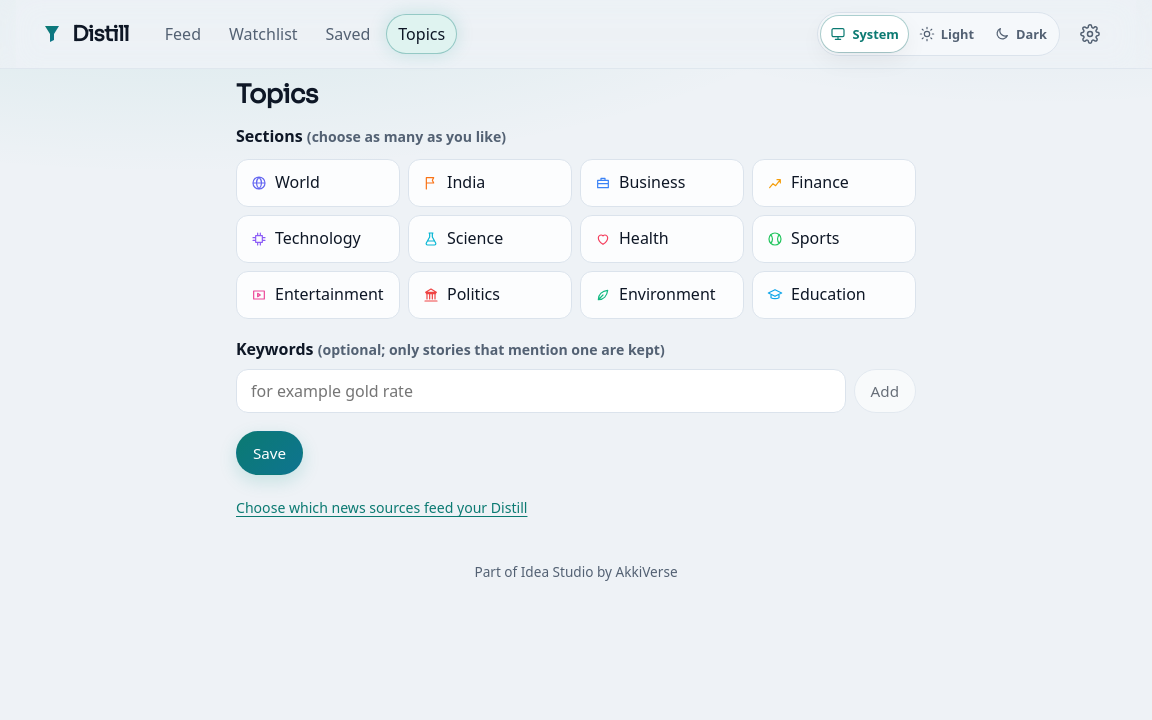
Test: US-1: Choose topics › AC-1.3: with no section selected, Save shows "Pick at least one section" and saves nothing
Click the button "Save": (270, 453) [236,431,303,475]
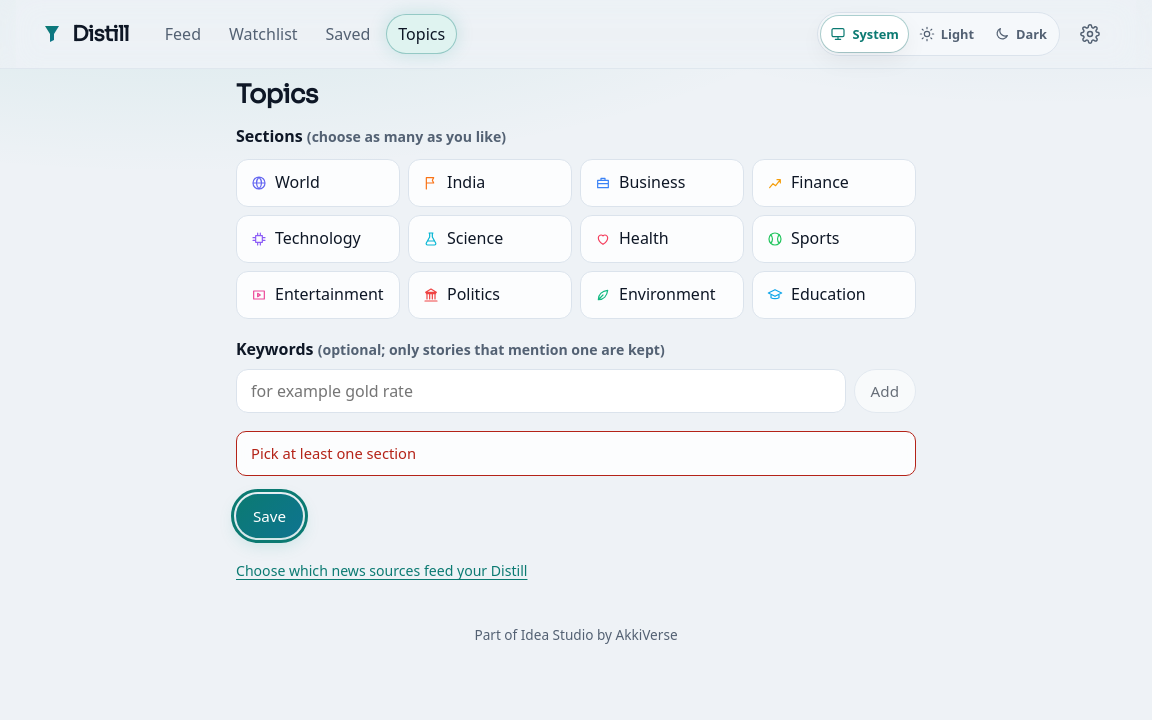
Expected: the message reads "Pick at least one section", [251,443,416,463]
